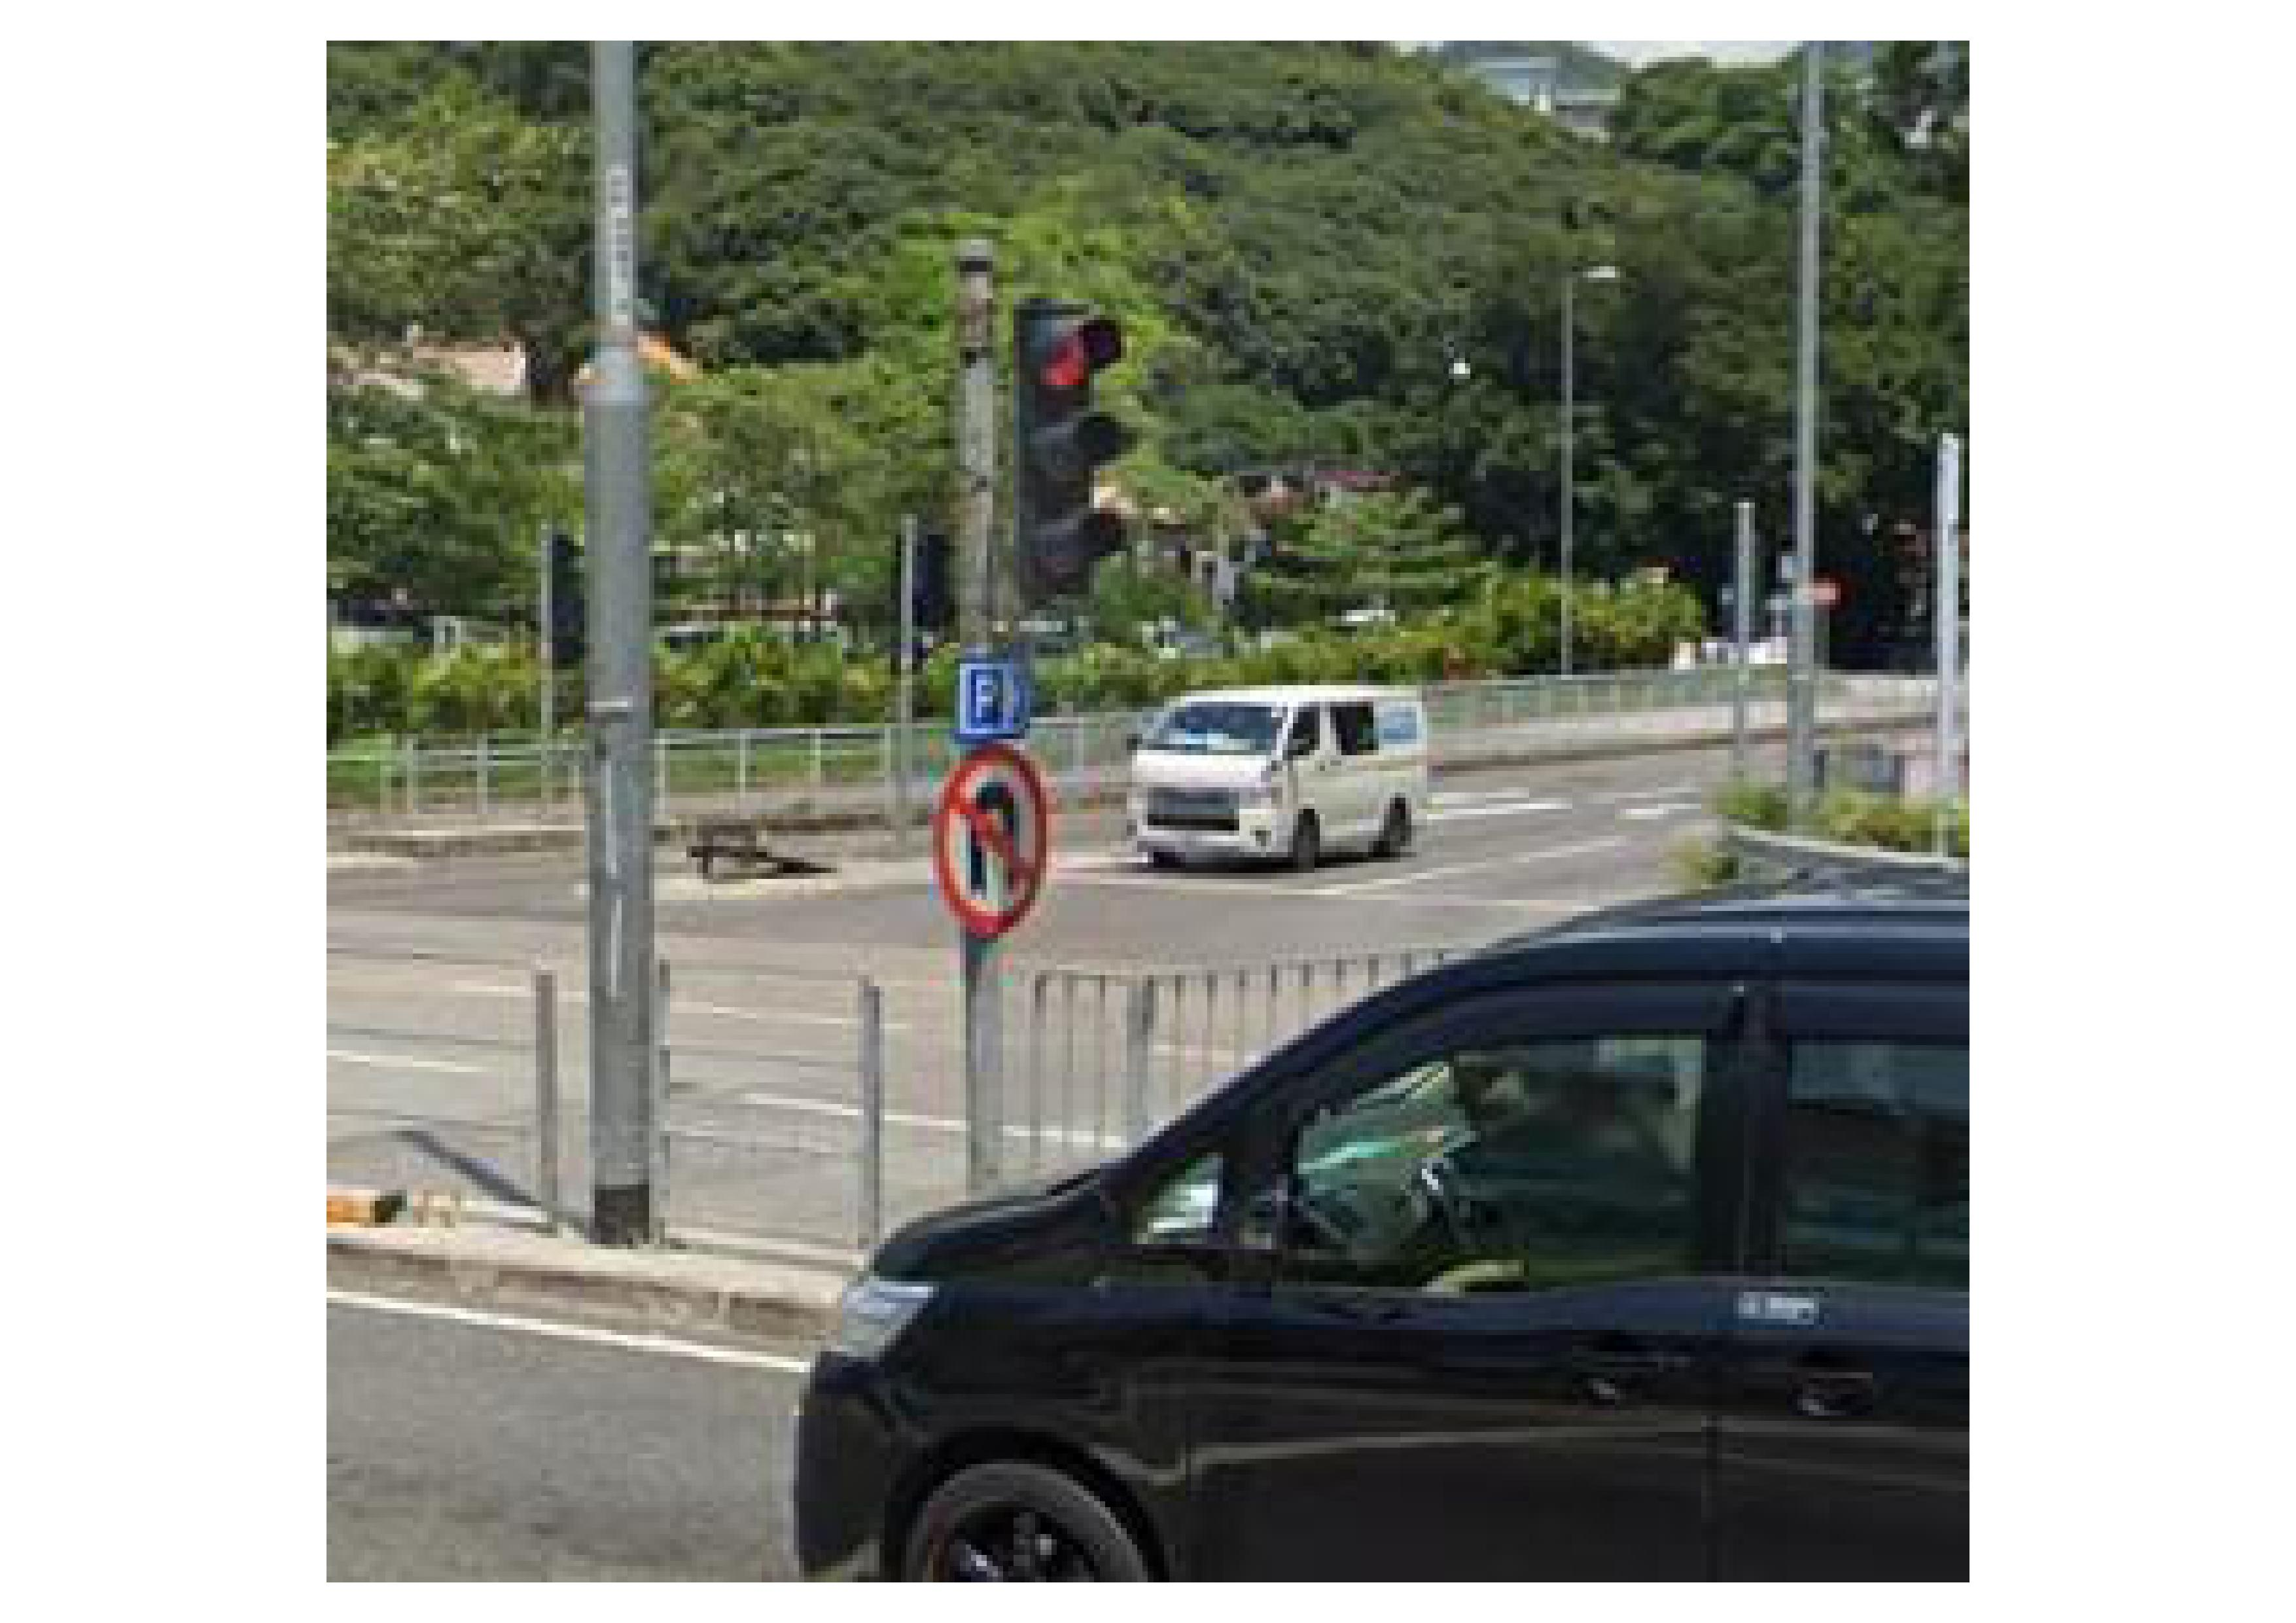No Uturn: (920, 747, 1057, 934)
